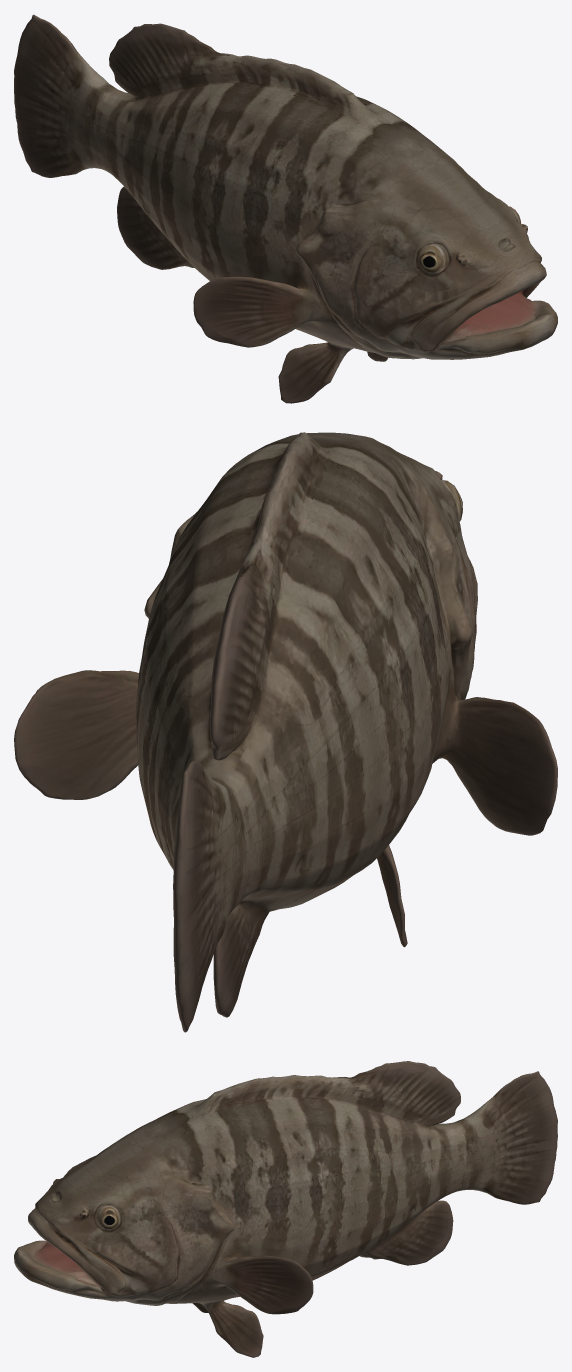
The model's file is giantgrouper.glb.
The picture shows the model from 3 angles, top to bottom: view 1: azimuth 30°, elevation 25°; view 2: azimuth 150°, elevation 25°; view 3: azimuth 270°, elevation 25°; orthographic projection. The views are drawn at different scales.
Visible parts, largest first — view 1: tripo_node_0cd4ee9d-25df-4a46-806f-e319765c03e2; view 2: tripo_node_0cd4ee9d-25df-4a46-806f-e319765c03e2; view 3: tripo_node_0cd4ee9d-25df-4a46-806f-e319765c03e2.
Part boxes in pixels (x1,y1,x2,y2): tripo_node_0cd4ee9d-25df-4a46-806f-e319765c03e2: (14,14,557,403); tripo_node_0cd4ee9d-25df-4a46-806f-e319765c03e2: (14,432,557,1032); tripo_node_0cd4ee9d-25df-4a46-806f-e319765c03e2: (14,1061,557,1357).
Bounding box in the file's own units: 0.4554 × 0.4851 × 0.9443.
Materials: 1 (1 with a texture image).
